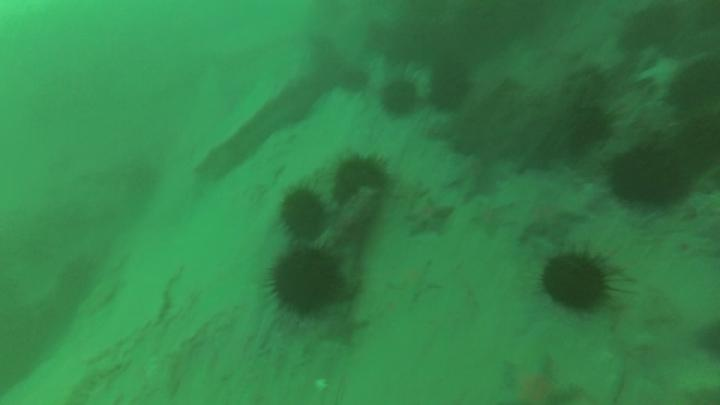echinus: (613, 141, 690, 208), (271, 248, 341, 311), (544, 253, 608, 308), (332, 157, 386, 198), (429, 63, 471, 111), (282, 193, 326, 237), (383, 81, 416, 117), (340, 67, 373, 93)
starfish: (512, 187, 583, 242), (496, 358, 578, 405), (389, 260, 442, 301), (448, 158, 504, 196), (408, 201, 452, 240)
